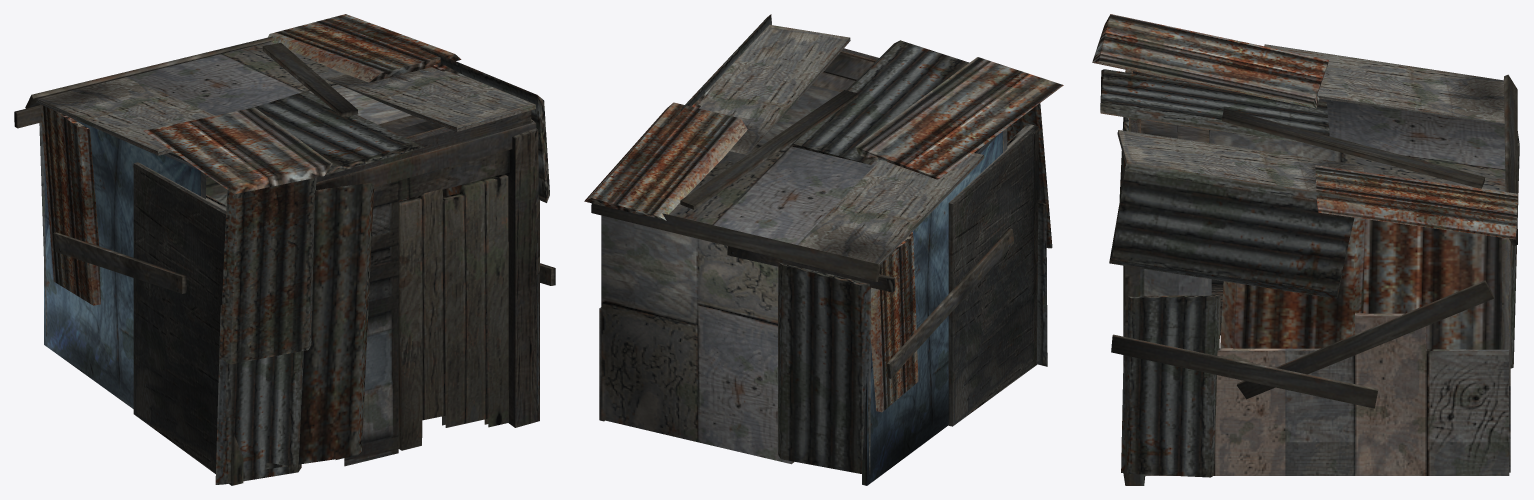
The model's file is workshop_dummy.fbx.
3 renders of one model, left to right at view 1: azimuth 30°, elevation 25°; view 2: azimuth 150°, elevation 25°; view 3: azimuth 270°, elevation 25°, orthographic. The views are drawn at different scales.
Parts seen in each view (by area): view 1: workshop_dummy; view 2: workshop_dummy; view 3: workshop_dummy.
Boxes of the visible parts, x1,y1,x2,y2 form: workshop_dummy: (14,14,555,485); workshop_dummy: (584,14,1063,485); workshop_dummy: (1092,14,1519,485).
Size of the model in its own units: 227 by 202 by 242.
